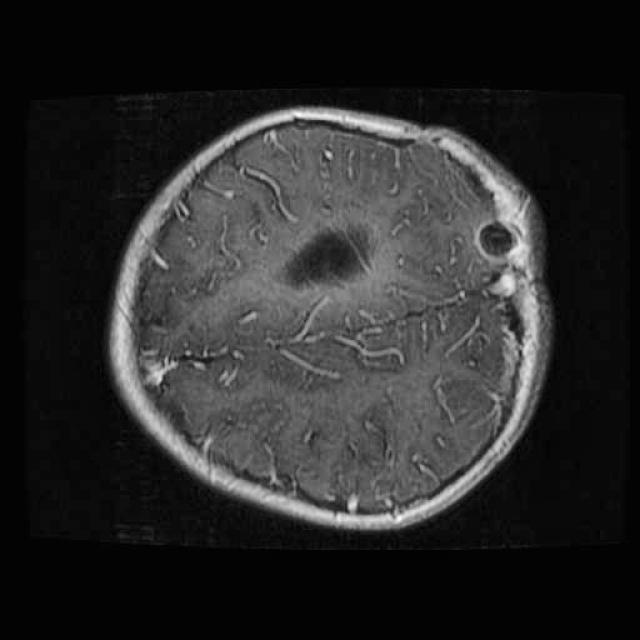Non-Tumor: (466, 213, 538, 270)
